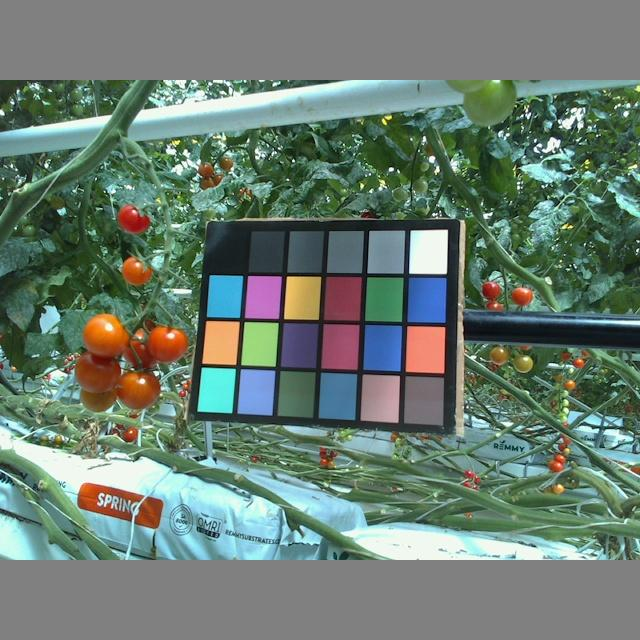green: (466, 81, 516, 125), (511, 354, 533, 372)
pink: (73, 355, 118, 392), (147, 325, 190, 363), (117, 371, 159, 409), (86, 315, 121, 354), (80, 379, 116, 412), (121, 260, 152, 285), (508, 285, 535, 306), (489, 344, 510, 362), (483, 280, 500, 299)
red: (115, 206, 152, 236)
